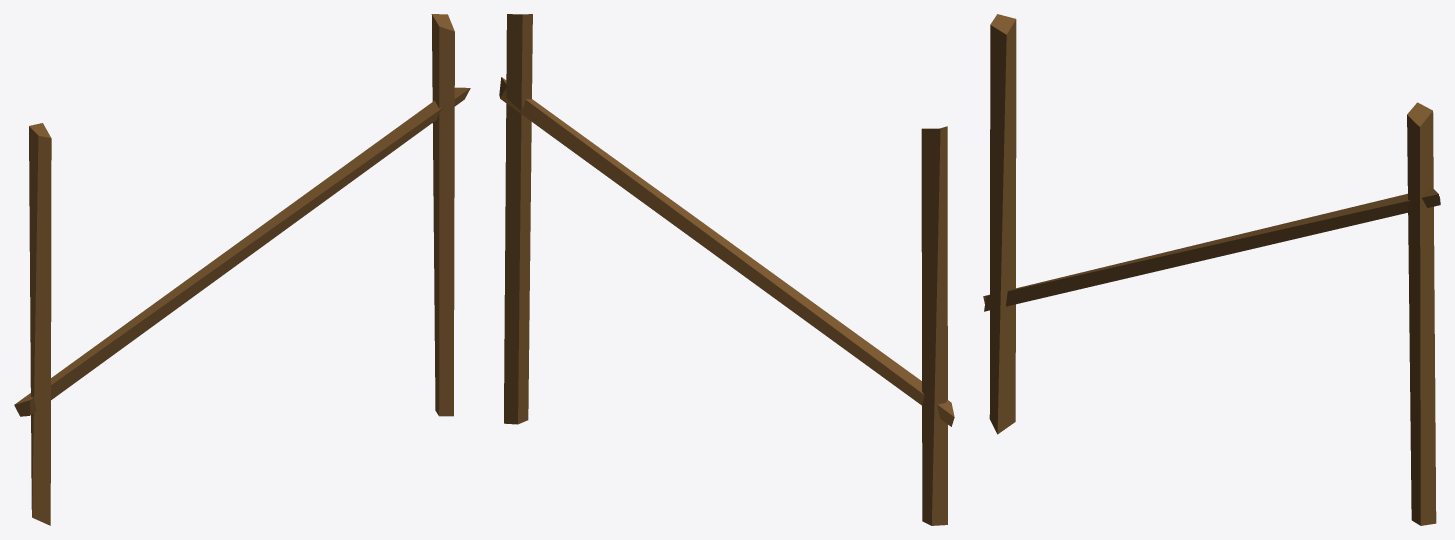
Rendered from Wooden_FencesUp3.fbx.
The picture shows the model from 3 angles, left to right: view 1: azimuth 30°, elevation 25°; view 2: azimuth 150°, elevation 25°; view 3: azimuth 330°, elevation 25°; orthographic projection. The views are drawn at different scales.
Parts seen in each view (by area): view 1: Wooden_FencesUp3; view 2: Wooden_FencesUp3; view 3: Wooden_FencesUp3.
Part boxes in pixels (bbox=[...]): Wooden_FencesUp3: bbox=[14, 14, 470, 525]; Wooden_FencesUp3: bbox=[499, 14, 954, 525]; Wooden_FencesUp3: bbox=[983, 14, 1440, 525].
Size of the model in its own units: 725 by 630 by 38.27.
